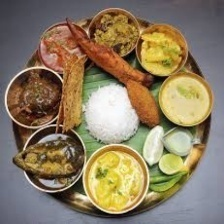rice: (84, 85, 141, 143)
